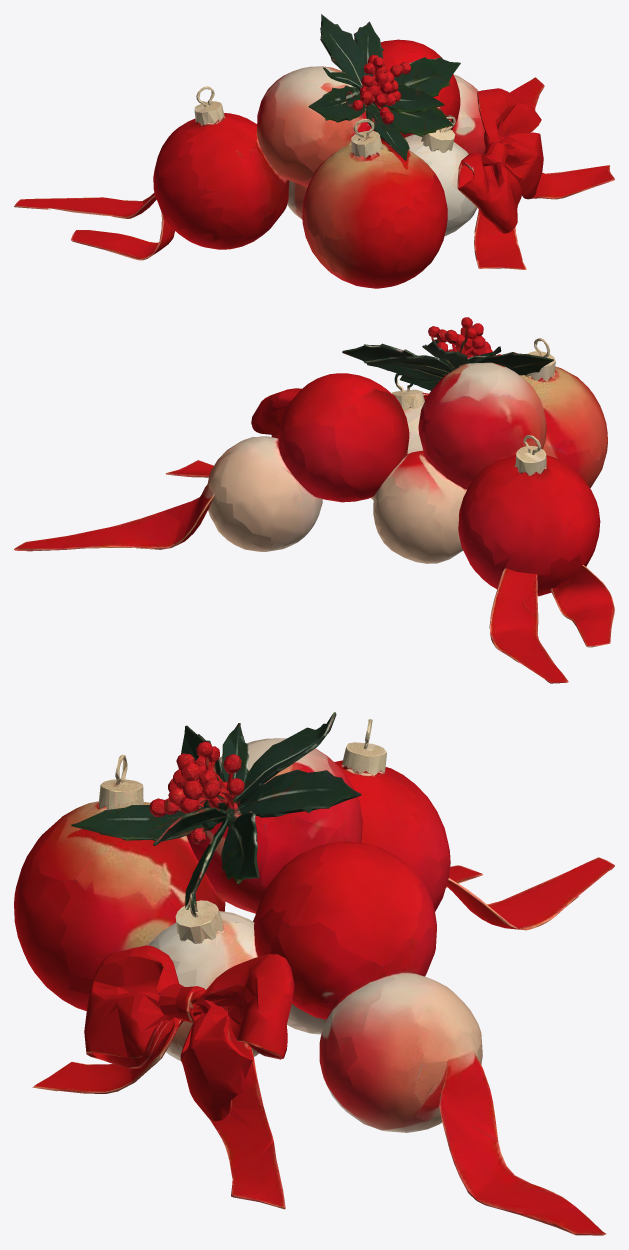
The model's file is baubles.glb.
3 renders of one model, top to bottom at view 1: azimuth 30°, elevation 25°; view 2: azimuth 150°, elevation 25°; view 3: azimuth 270°, elevation 25°, orthographic. The views are drawn at different scales.
Size of the model in its own units: 1 by 0.3832 by 0.6755.
1 material, 1 textured.
